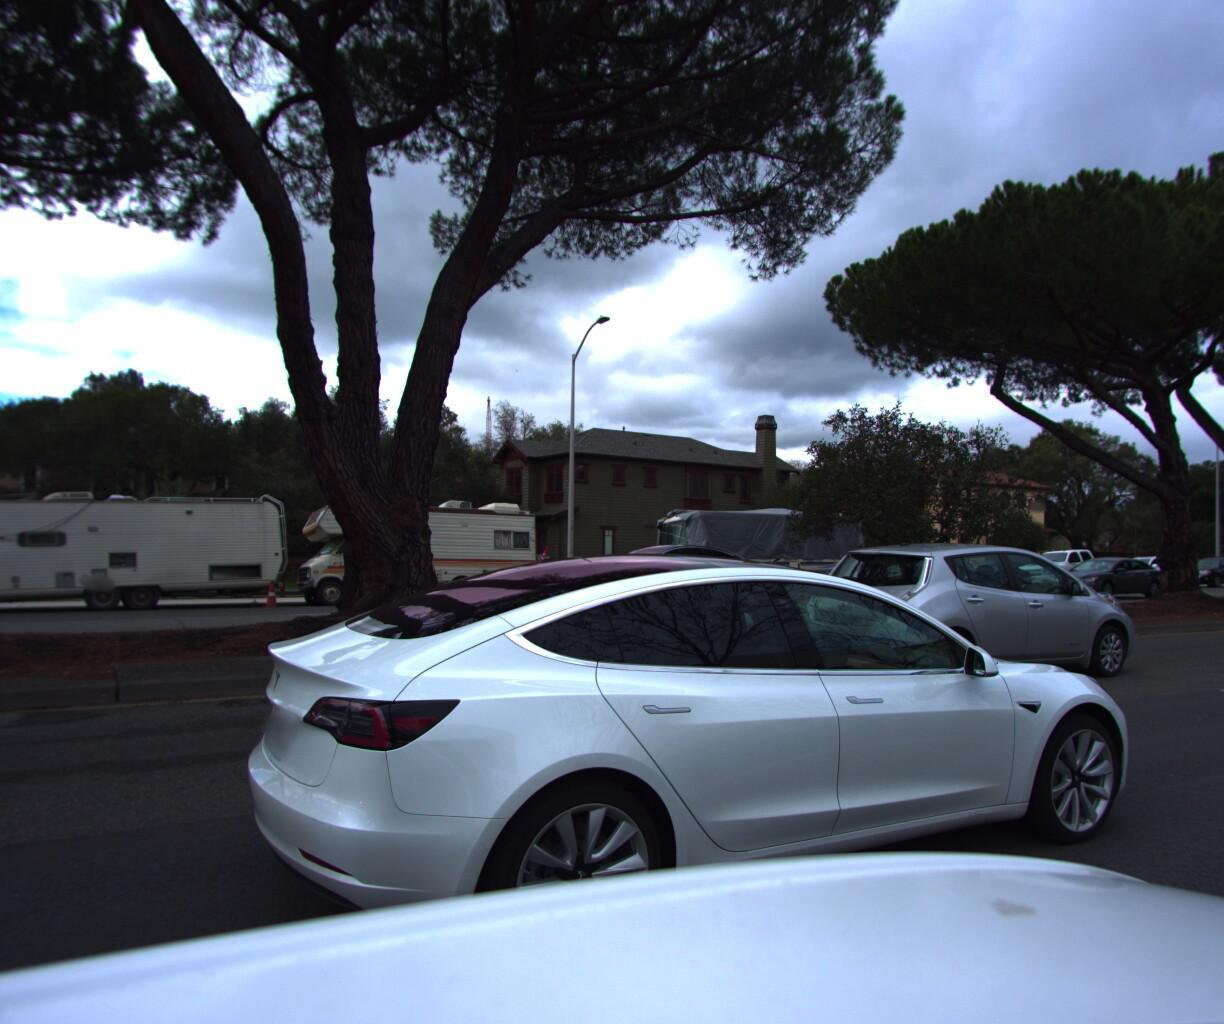car: (124, 521, 1115, 1024), (764, 534, 1131, 703), (558, 537, 760, 609), (1038, 550, 1168, 595), (1003, 541, 1125, 588), (1098, 548, 1184, 585), (1165, 549, 1224, 584), (1208, 550, 1224, 583)
other_vehicle: (285, 484, 553, 606), (636, 493, 873, 596)
